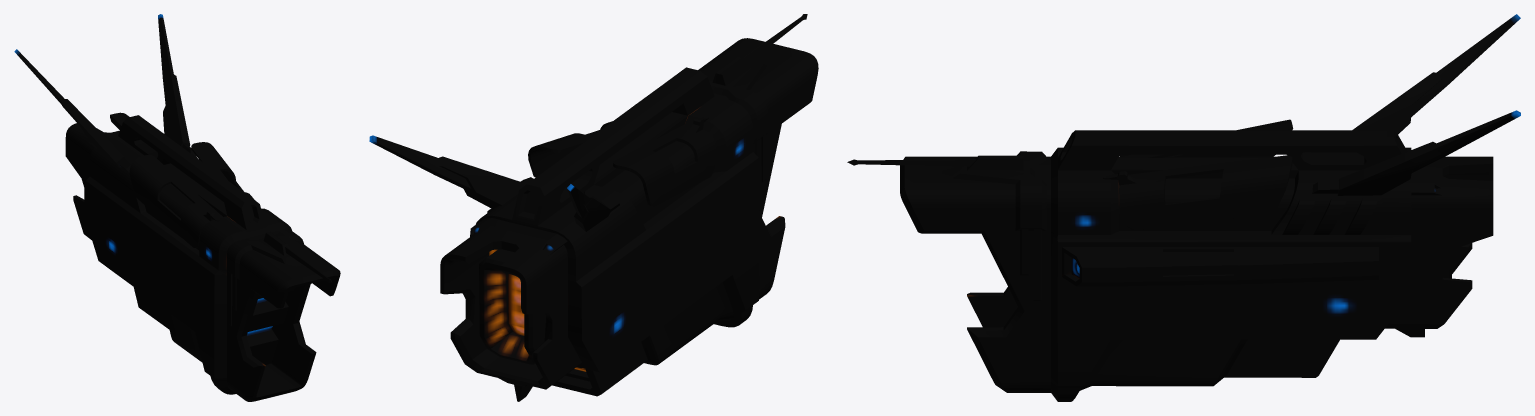
File: SM_R_Engine_3.fbx
3 renders of one model, left to right at view 1: azimuth 30°, elevation 25°; view 2: azimuth 150°, elevation 25°; view 3: azimuth 270°, elevation 25°, orthographic. The views are drawn at different scales.
Visible parts, largest first — view 1: SM_R_Engine_3; view 2: SM_R_Engine_3; view 3: SM_R_Engine_3.
Part boxes in pixels (left/top/right/bottom): SM_R_Engine_3: left=14, top=14, right=340, bottom=401; SM_R_Engine_3: left=369, top=14, right=818, bottom=401; SM_R_Engine_3: left=847, top=14, right=1520, bottom=401.
Bounding box in the file's own units: 49.98 × 75.96 × 143.
